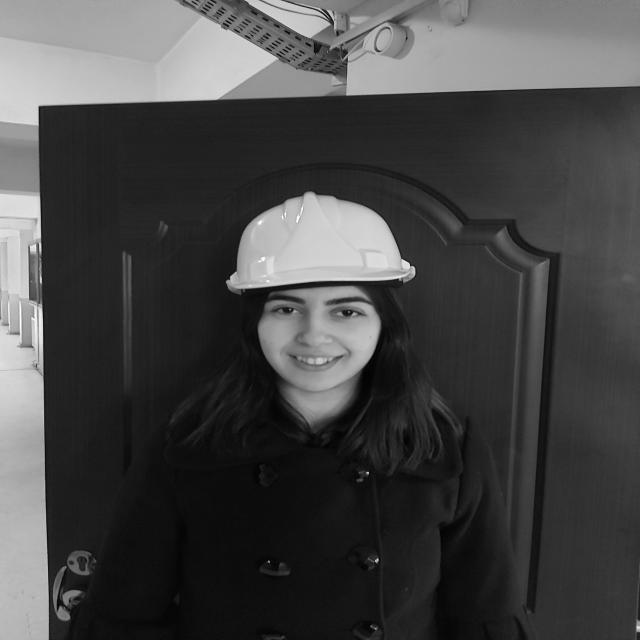safety_helmet: (226, 193, 417, 296)
